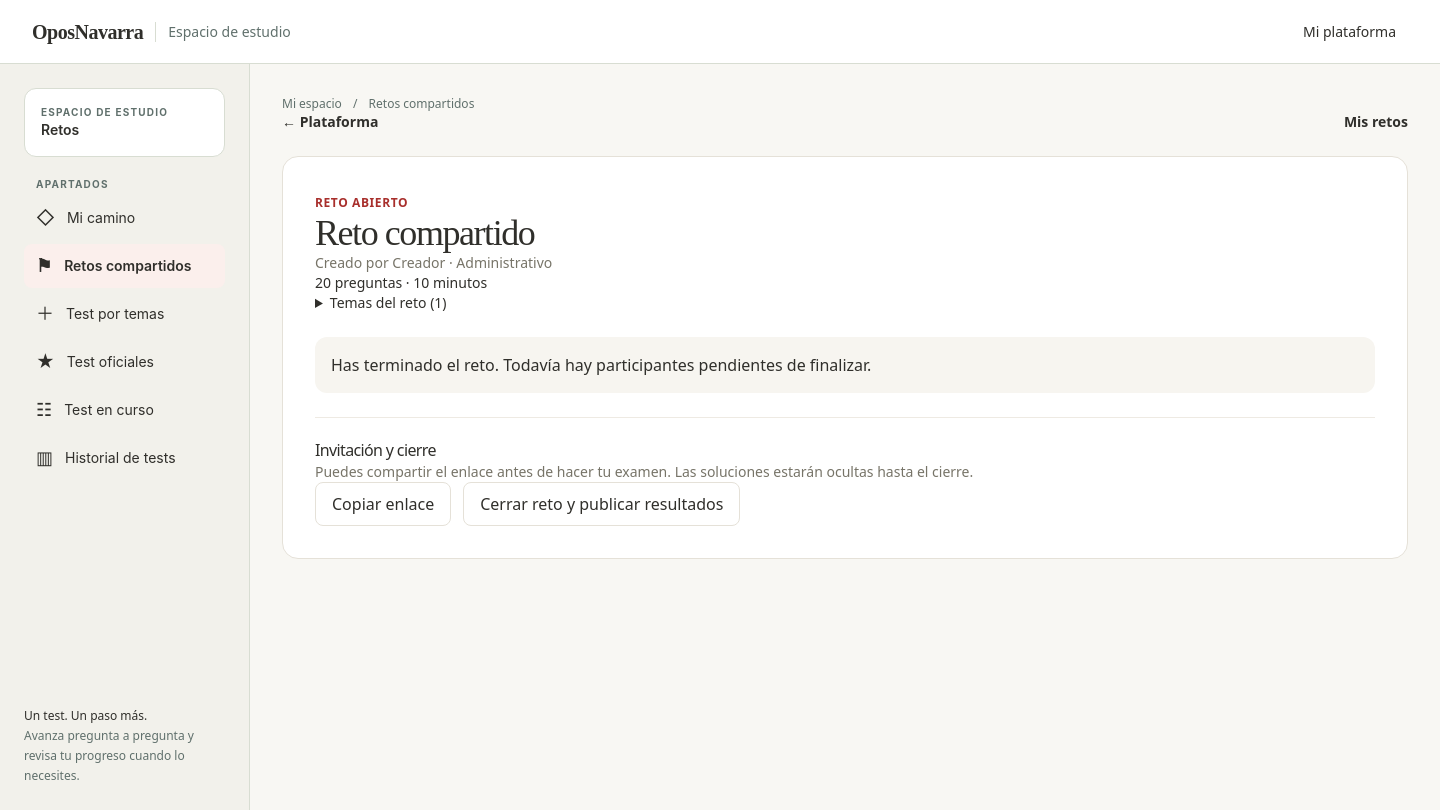
challenge screens › shows a neutral waiting screen without scores or pending counts, including for the creator
Expected: the text "Has terminado el reto. Todavía hay participantes pendientes de finalizar." is shown, 331,354 -> 871,376
Step 1. Click the button "Cerrar reto y publicar resultados" → (602, 504), box 463,482 -> 740,526
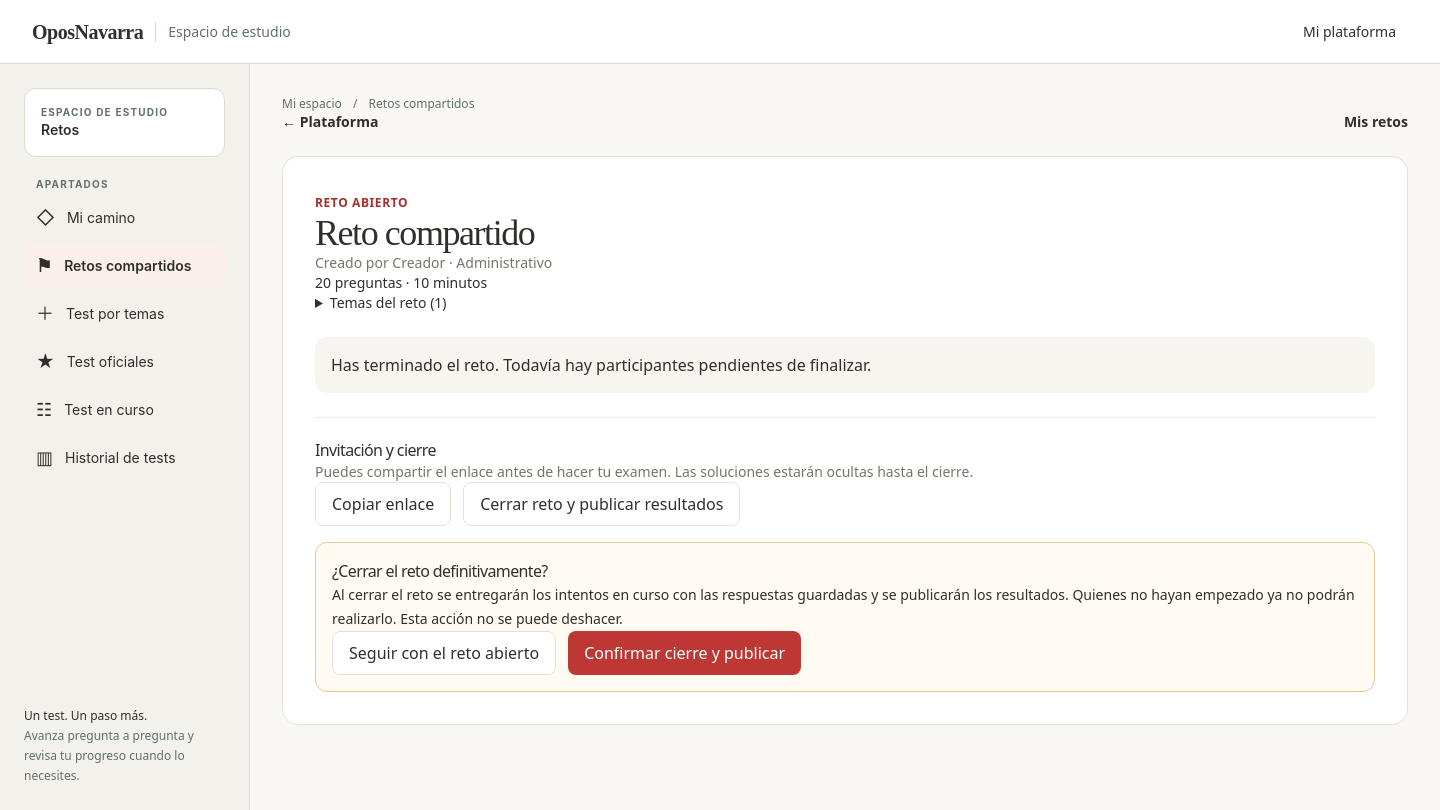
Expected: the text "Al cerrar el reto se entregarán los intentos en curso con las respuestas guardadas y se publicarán los resultados. Quien" is shown, 332,585 -> 1354,628
Step 2. Click the button "Confirmar cierre y publicar" → (685, 653), box 568,631 -> 801,675
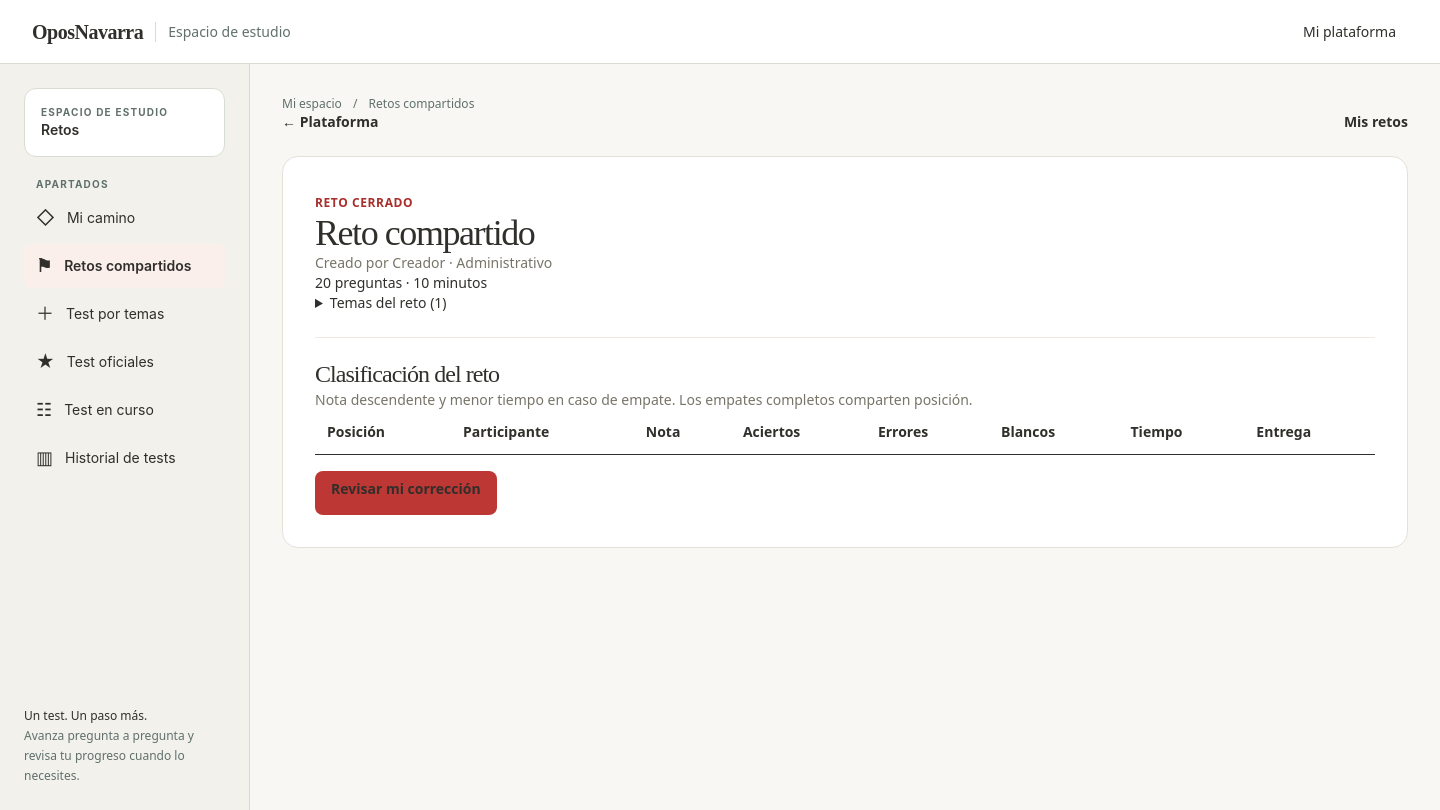
Expected: the table is shown, 315,410 -> 1375,455
